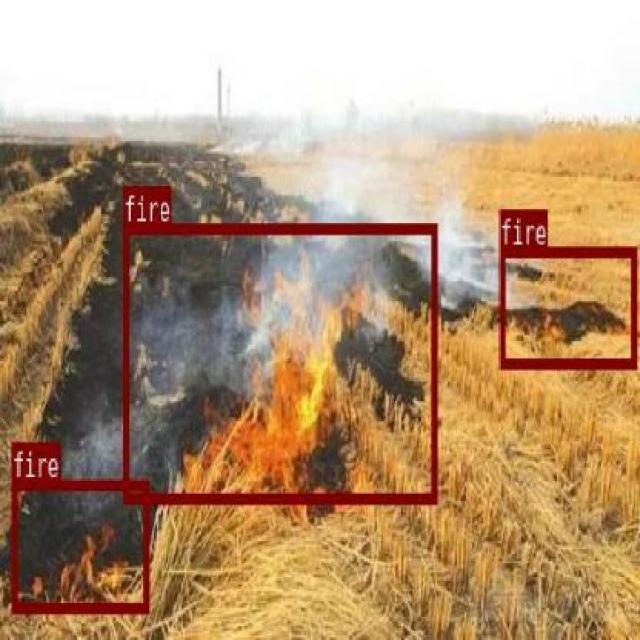Fire: (122, 223, 436, 502), (11, 479, 148, 610), (498, 246, 636, 366)
Smoke: (288, 115, 490, 212), (444, 223, 489, 298), (76, 419, 115, 472)
